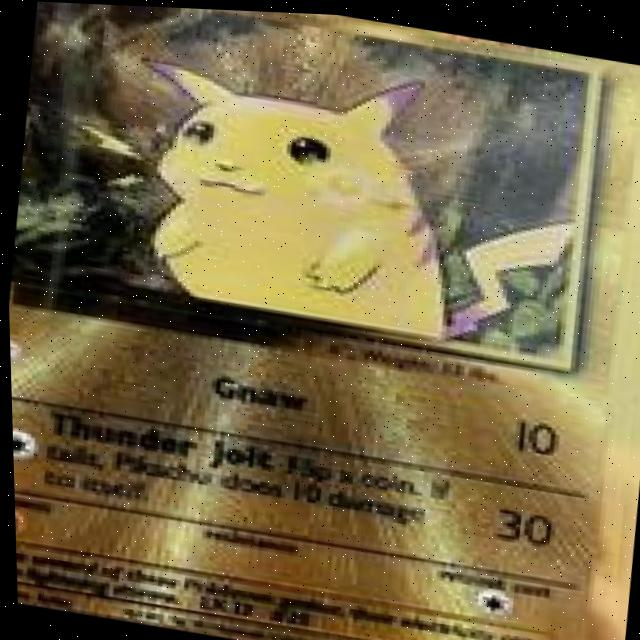Pikachu: (78, 22, 609, 383)
